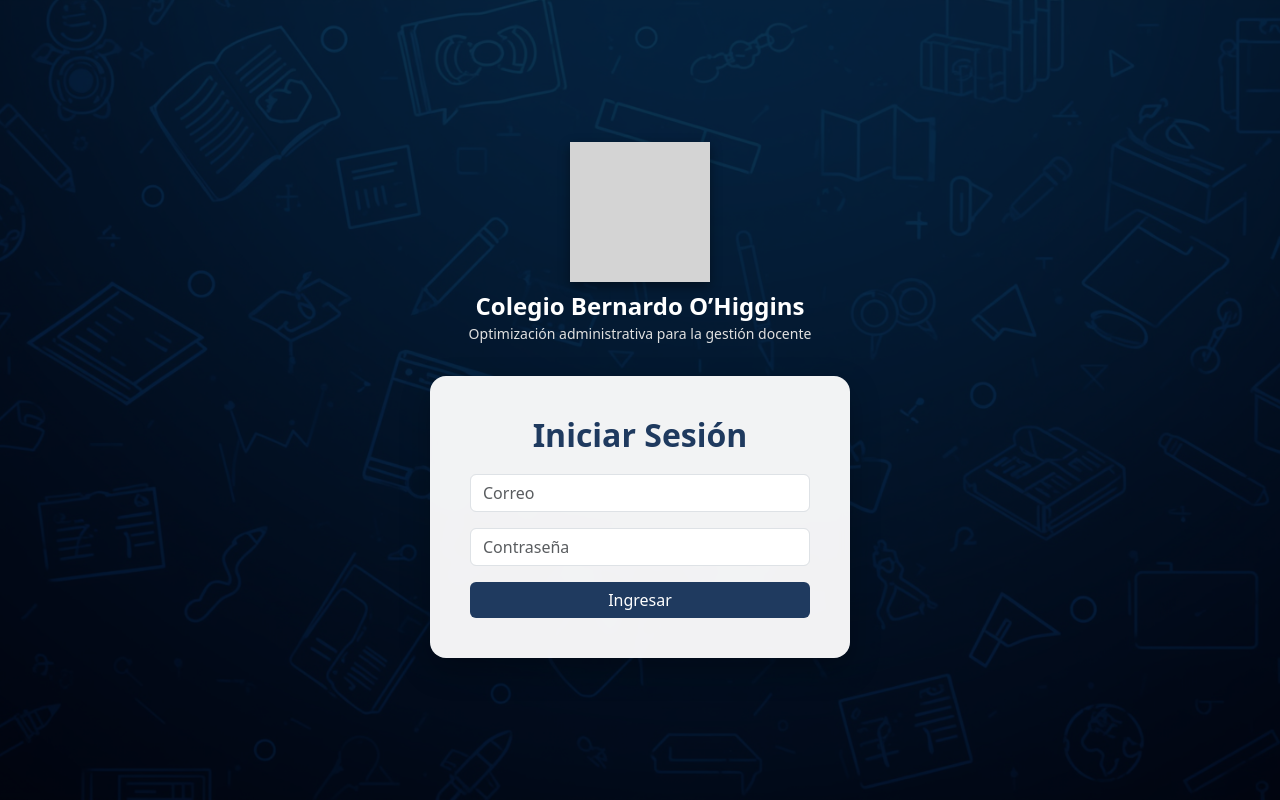
Login component › muestra error con email incorrecto
The image size is (1280, 800).
Type "otro@email.com" into the field with placeholder "Correo".
click(640, 493); type("otro@email.com")  # box [470, 474, 810, 512]
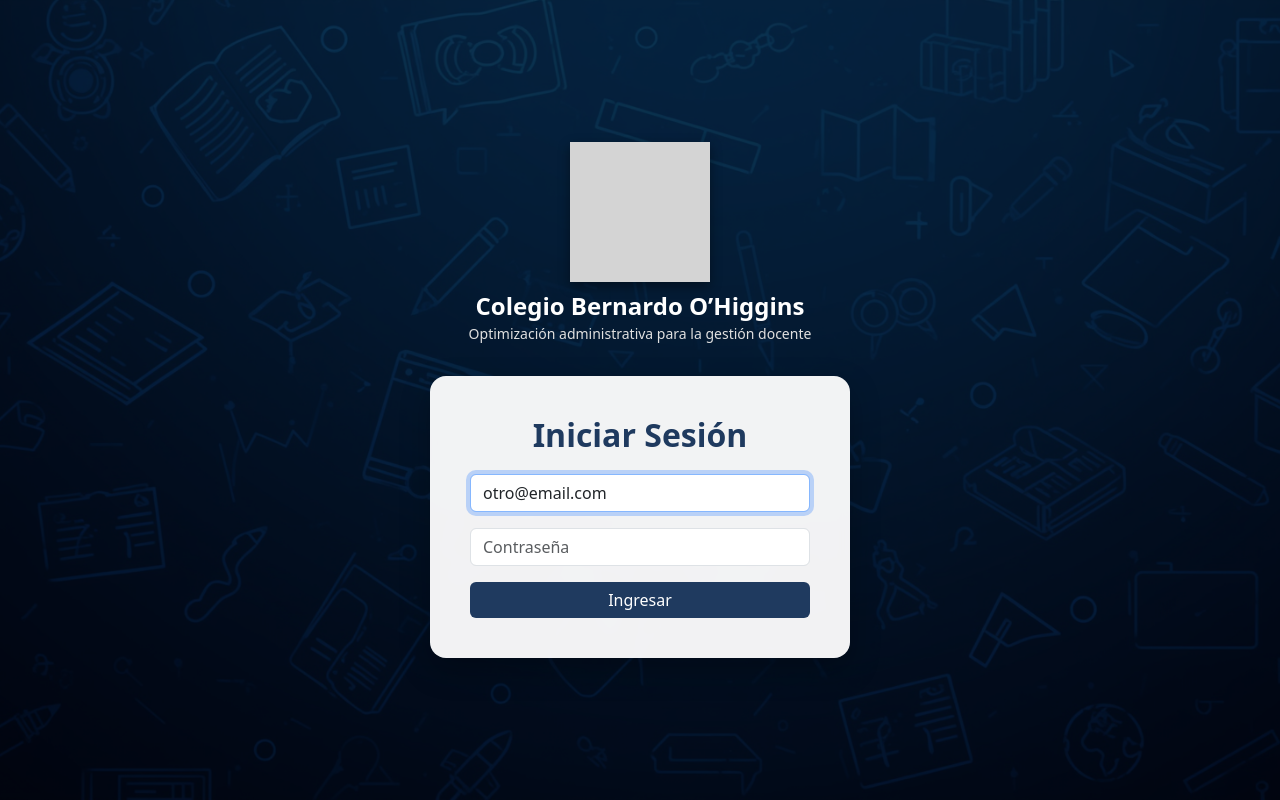
Type "benja2026" into the password field with placeholder "Contraseña".
click(640, 547); type("benja2026")  # box [470, 528, 810, 566]
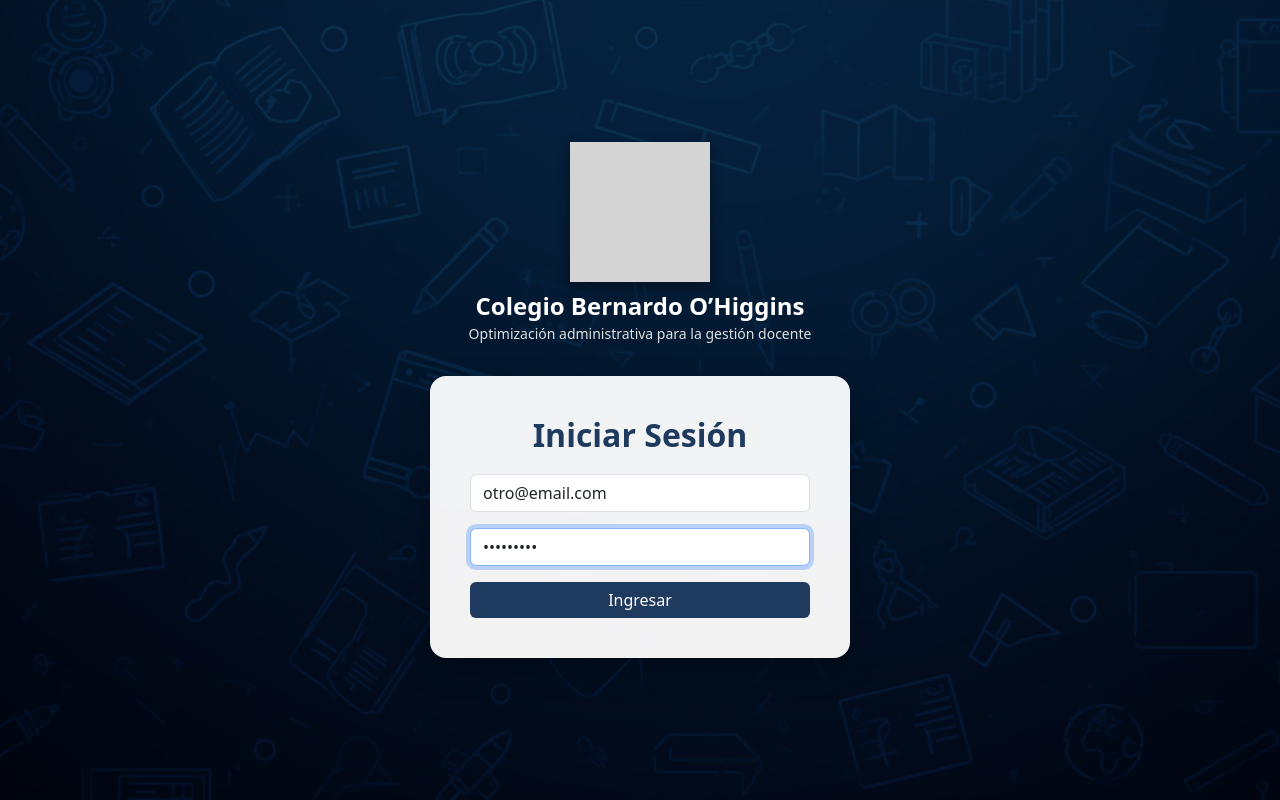
Click the button "Ingresar".
click(640, 600)  # box [470, 582, 810, 618]
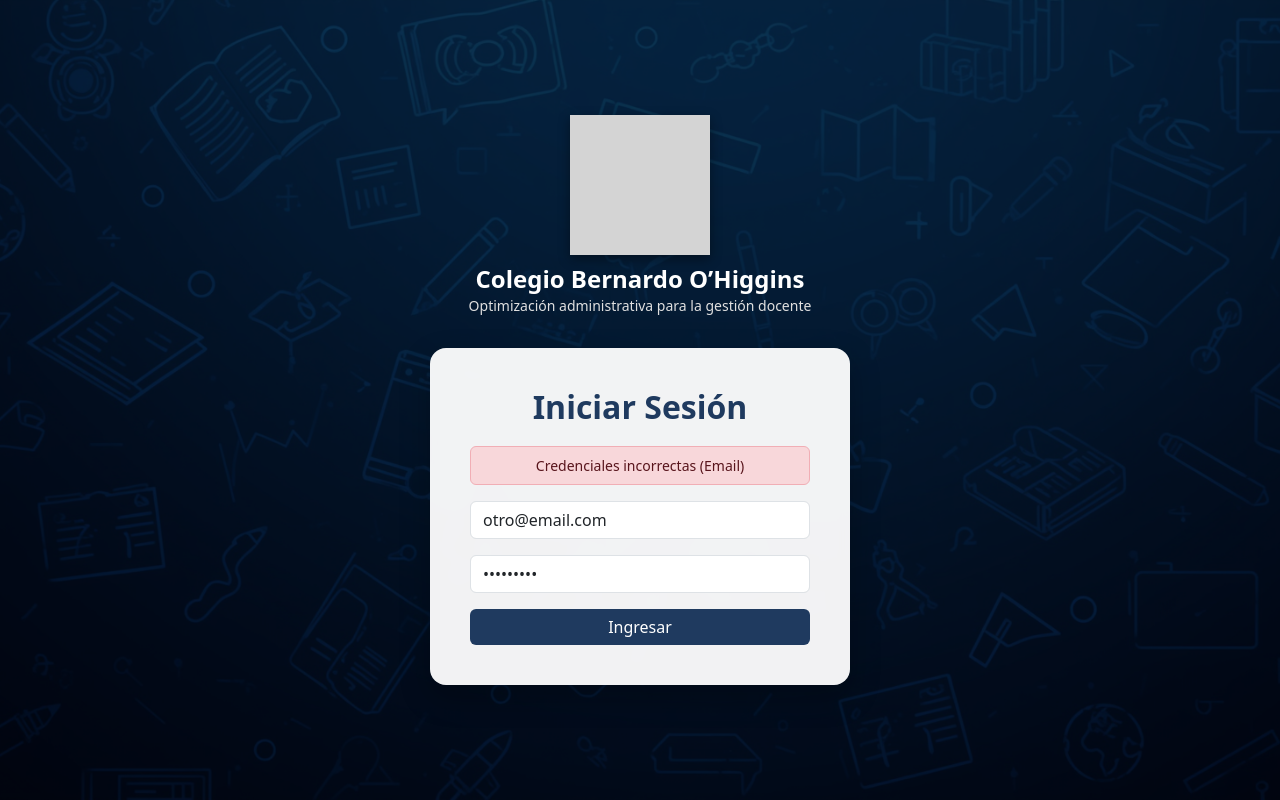
Now the message "Credenciales incorrectas (Email)" is shown, box [470, 446, 810, 486]
